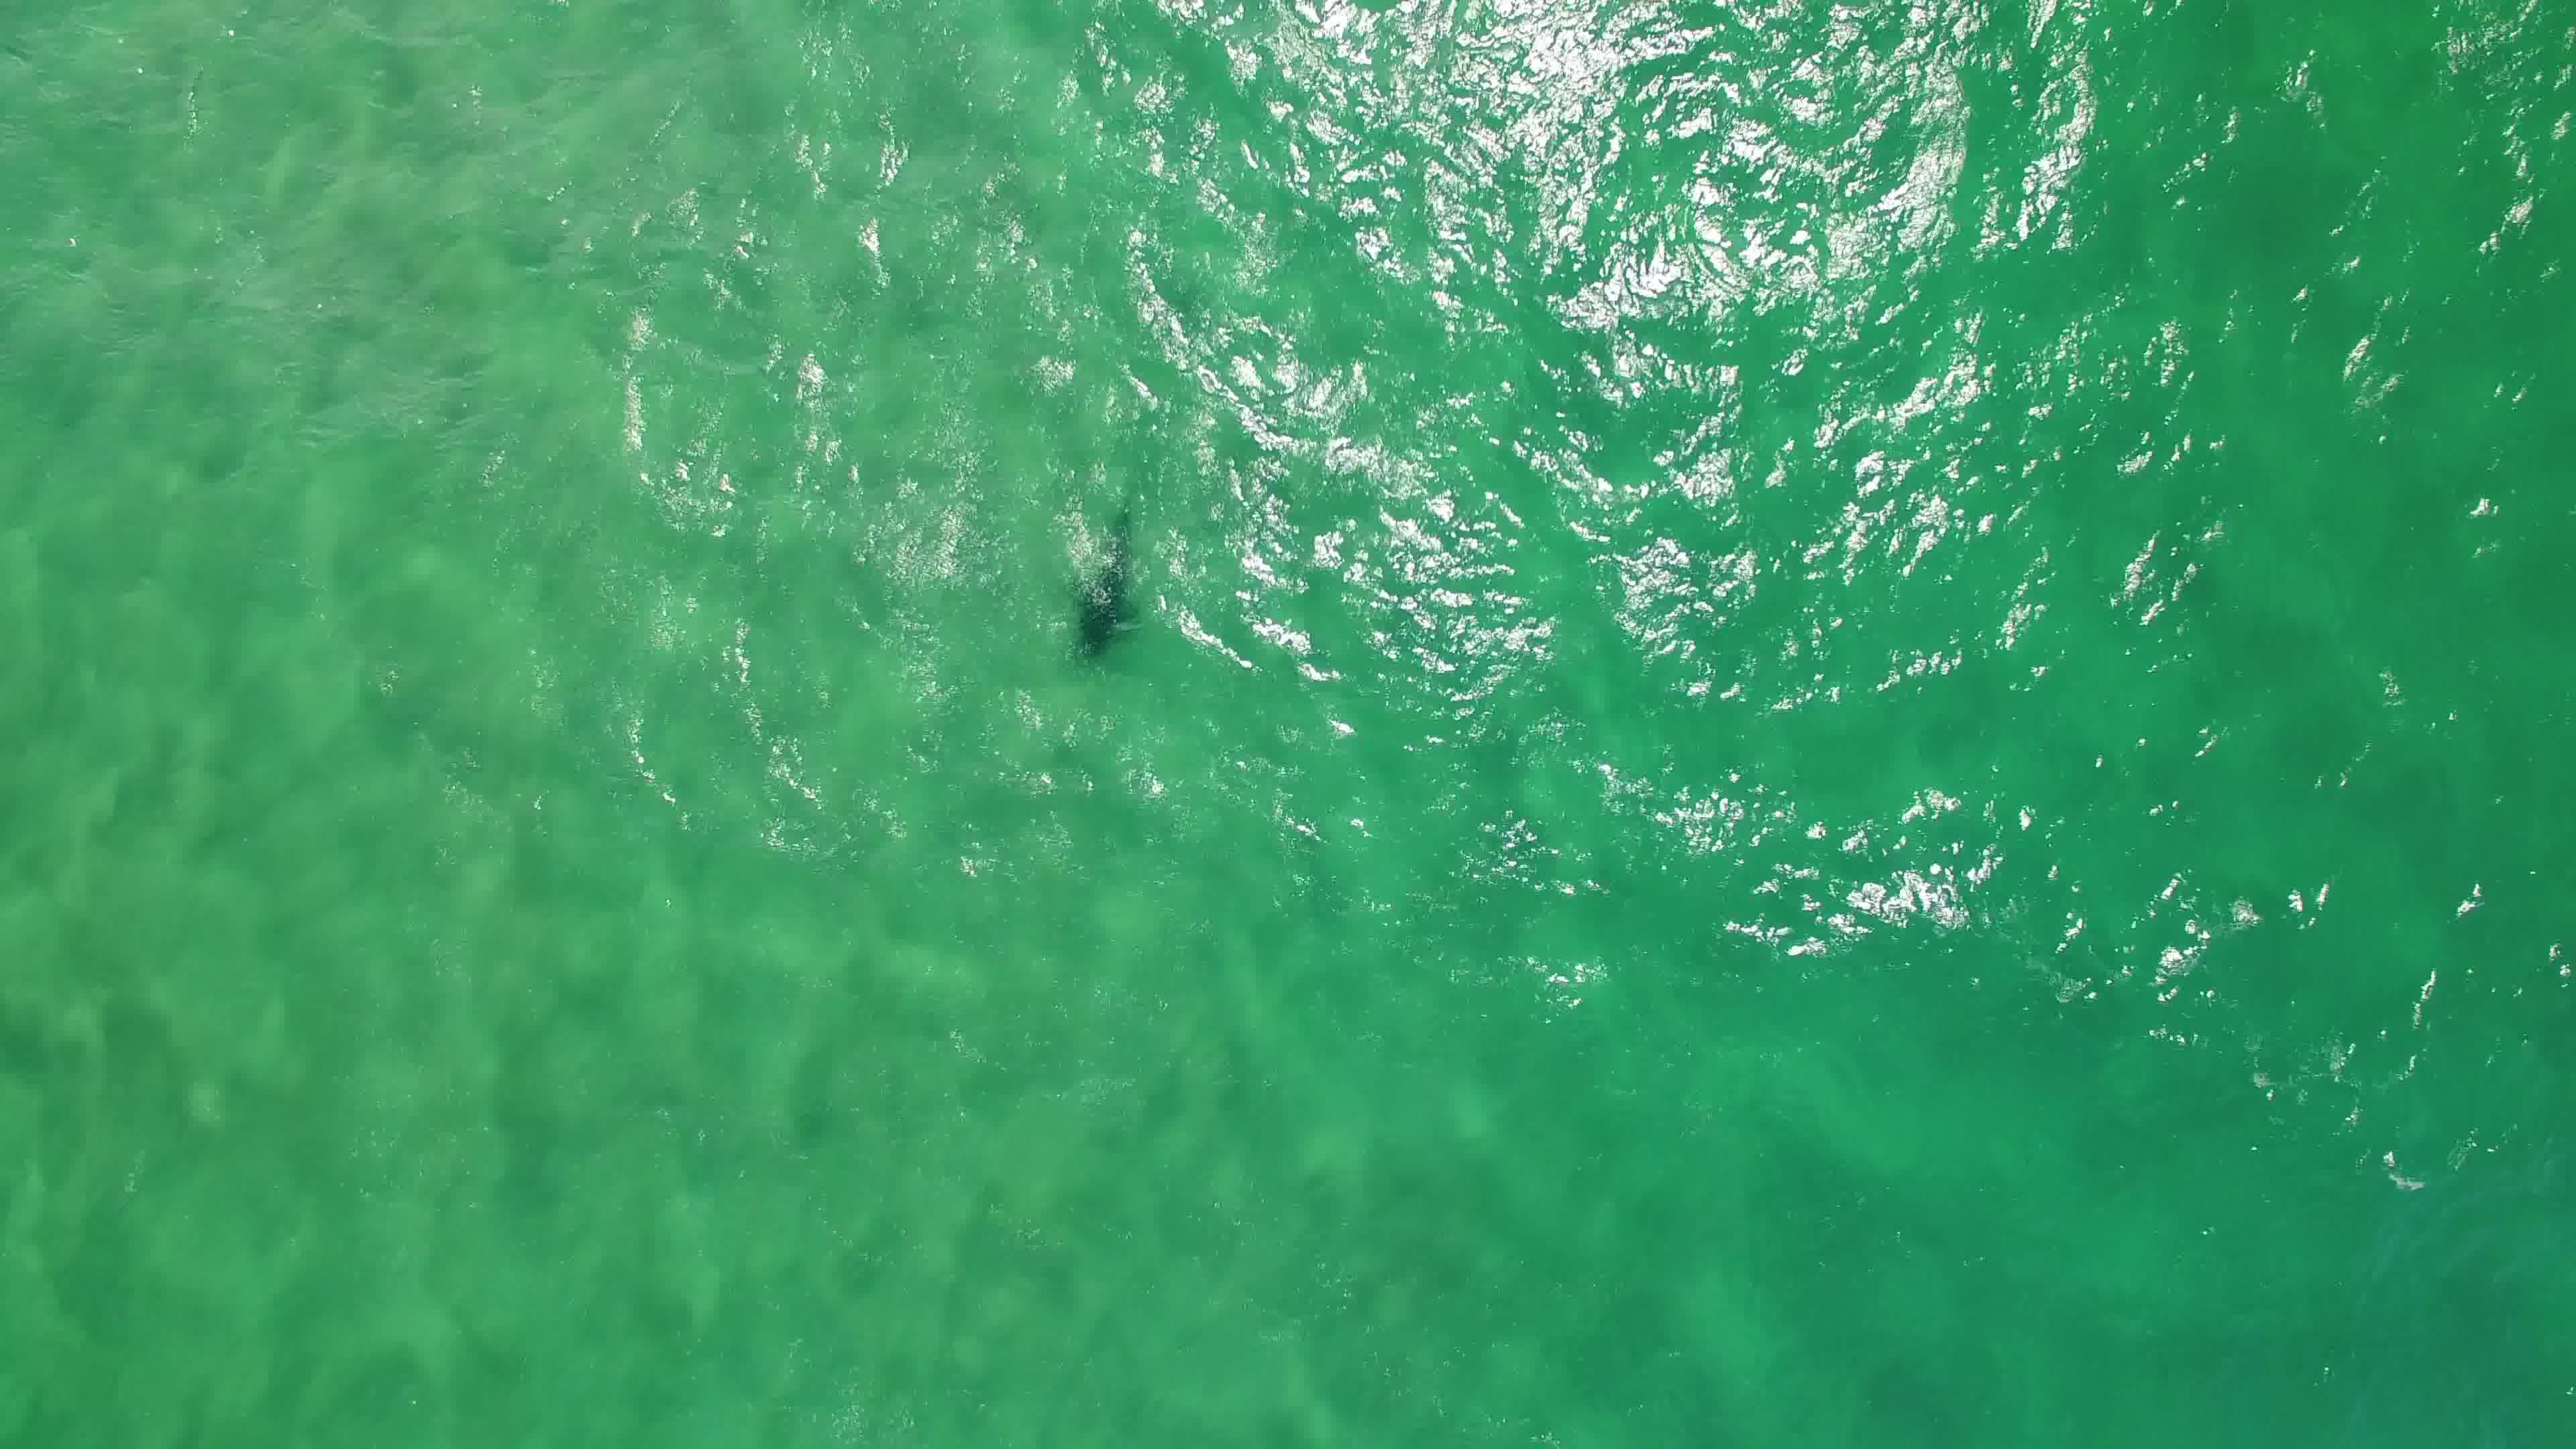shark: (1040, 499, 1150, 669)
